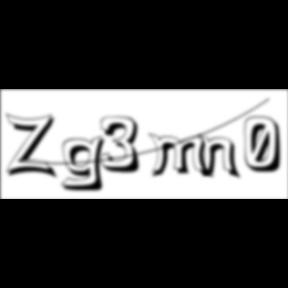0: (244, 115, 288, 174)
3: (101, 116, 147, 176)
Z: (6, 112, 60, 181)
g: (61, 134, 113, 194)
m: (148, 132, 216, 181)
n: (198, 132, 246, 181)
